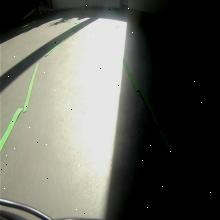crosswalk: (166, 55, 190, 81)
